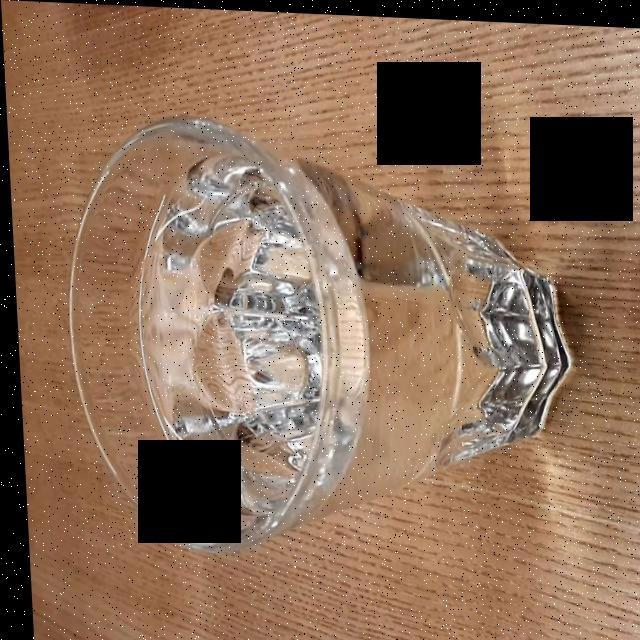water: (152, 161, 321, 508)
